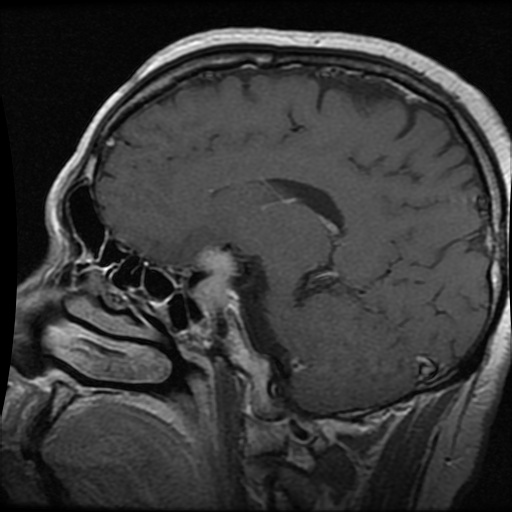pituitary: (195, 247, 235, 310)
